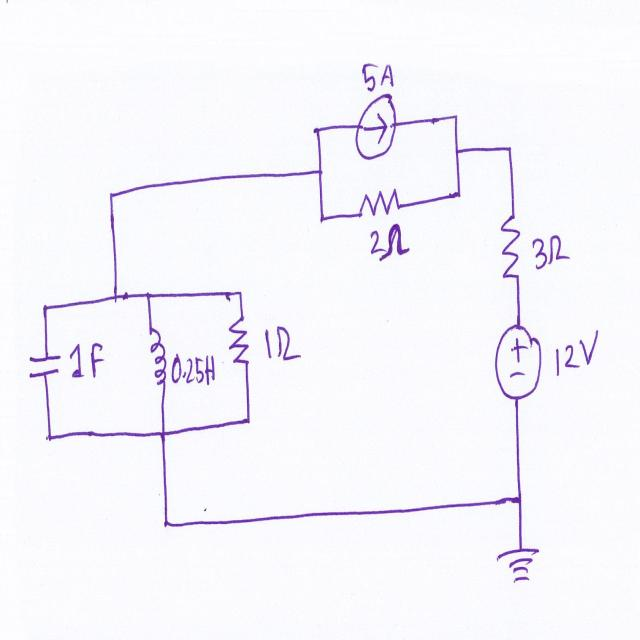capacitor: (21, 352, 63, 392)
current_source: (353, 91, 401, 161)
ground: (490, 542, 542, 590)
inductor: (142, 326, 168, 392)
resistor: (496, 210, 526, 286), (355, 182, 402, 222), (224, 314, 254, 373)
voltage_source: (491, 322, 547, 410)
